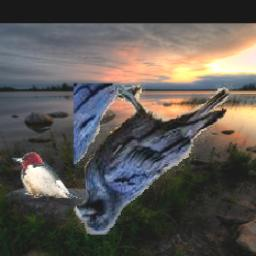Crow: (75, 83, 234, 235)
Woodpecker: (13, 152, 82, 199)
